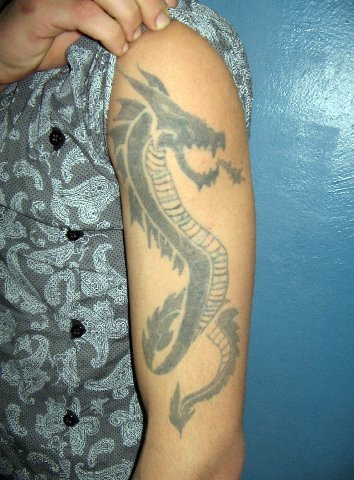tatu6_drakon: (105, 64, 281, 436)
